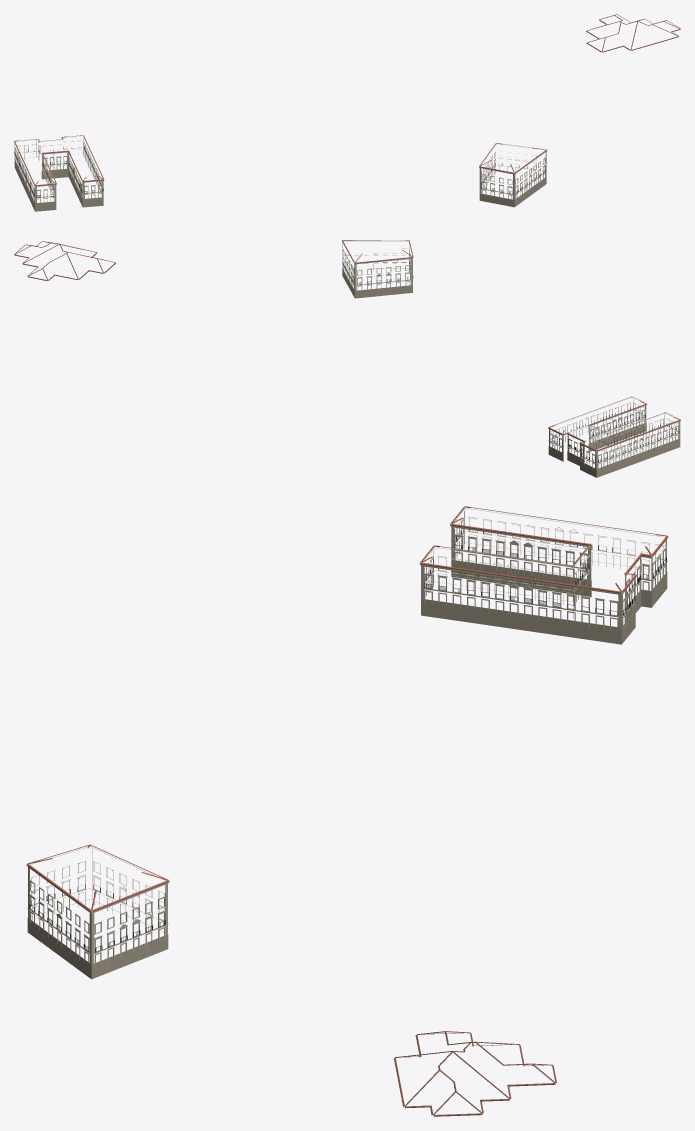
The picture shows the model from 3 angles, top to bottom: view 1: azimuth 30°, elevation 25°; view 2: azimuth 150°, elevation 25°; view 3: azimuth 270°, elevation 25°; orthographic projection. The views are drawn at different scales.
Parts seen in each view (by area): view 1: detail; view 2: detail; view 3: detail.
Boxes of the visible parts, left/top/right/bottom form: detail: left=14, top=14, right=680, bottom=211; detail: left=14, top=240, right=680, bottom=477; detail: left=26, top=506, right=668, bottom=1116.
Bounding box in the file's own units: 275 × 21.7 × 120.
